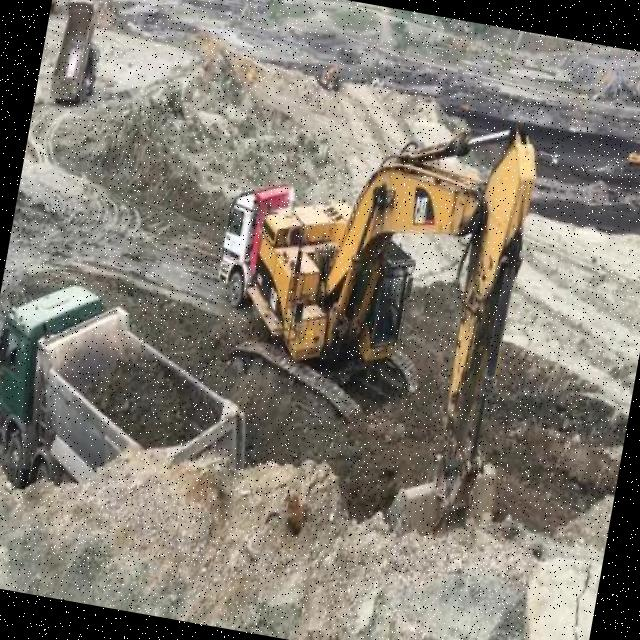Dump Truck: (0, 260, 260, 519), (214, 178, 294, 308), (44, 0, 108, 103)
Excavator: (207, 82, 560, 548), (624, 140, 640, 171)
